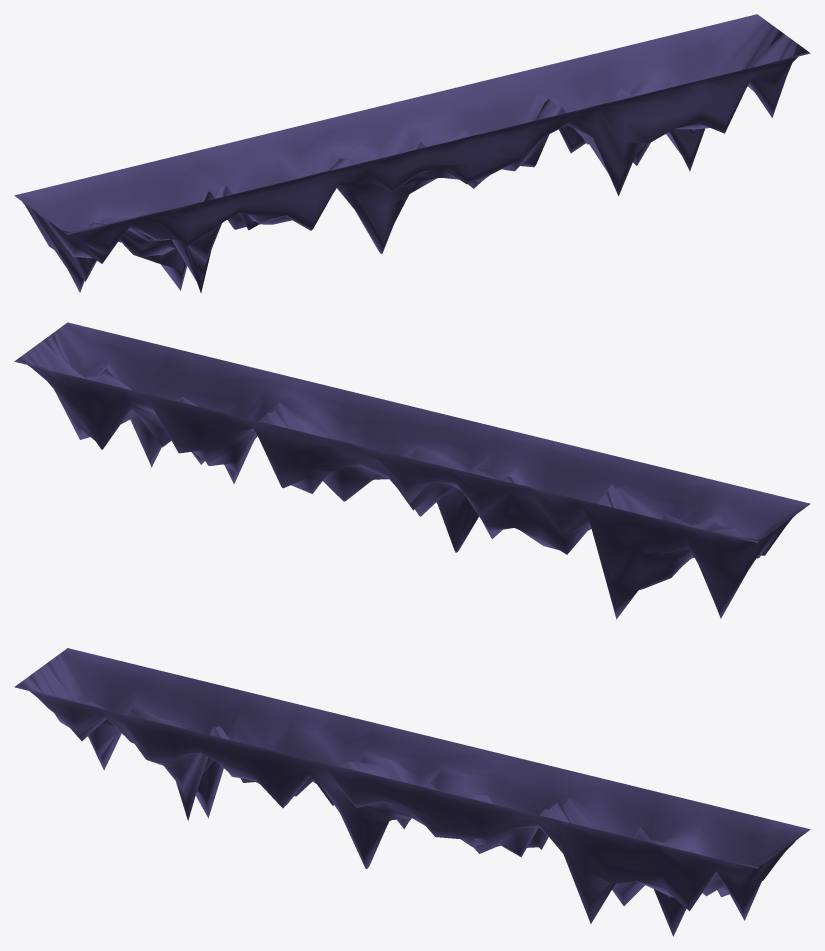
The model's file is Terain6.fbx.
3 renders of one model, top to bottom at view 1: azimuth 30°, elevation 25°; view 2: azimuth 150°, elevation 25°; view 3: azimuth 330°, elevation 25°, orthographic.
Parts seen in each view (by area): view 1: Terain 3.001; view 2: Terain 3.001; view 3: Terain 3.001.
Part boxes in pixels (x1,y1,x2,y2): Terain 3.001: (14,14,810,293); Terain 3.001: (14,322,810,619); Terain 3.001: (14,648,810,936).
Bounding box in the file's own units: 2000 × 318 × 250.
